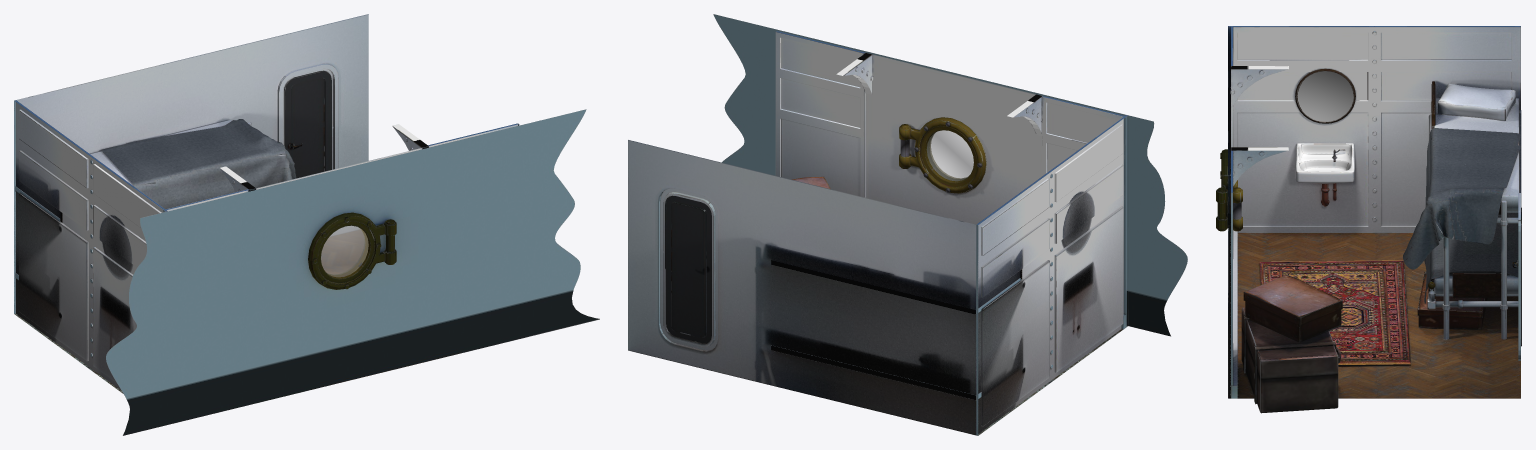
File: cabin_6.glb
3 renders of one model, left to right at view 1: azimuth 30°, elevation 25°; view 2: azimuth 150°, elevation 25°; view 3: azimuth 270°, elevation 25°, orthographic. The views are drawn at different scales.
Parts seen in each view (by area): view 1: Room; view 2: Room; view 3: Room.
Boxes of the visible parts, x1,y1,x2,y2 form: Room: (14, 14, 599, 435); Room: (628, 14, 1187, 435); Room: (1216, 26, 1521, 413).
Size of the model in its own units: 13.93 by 5.75 by 7.75.
Materials: 3 (1 with a texture image).
